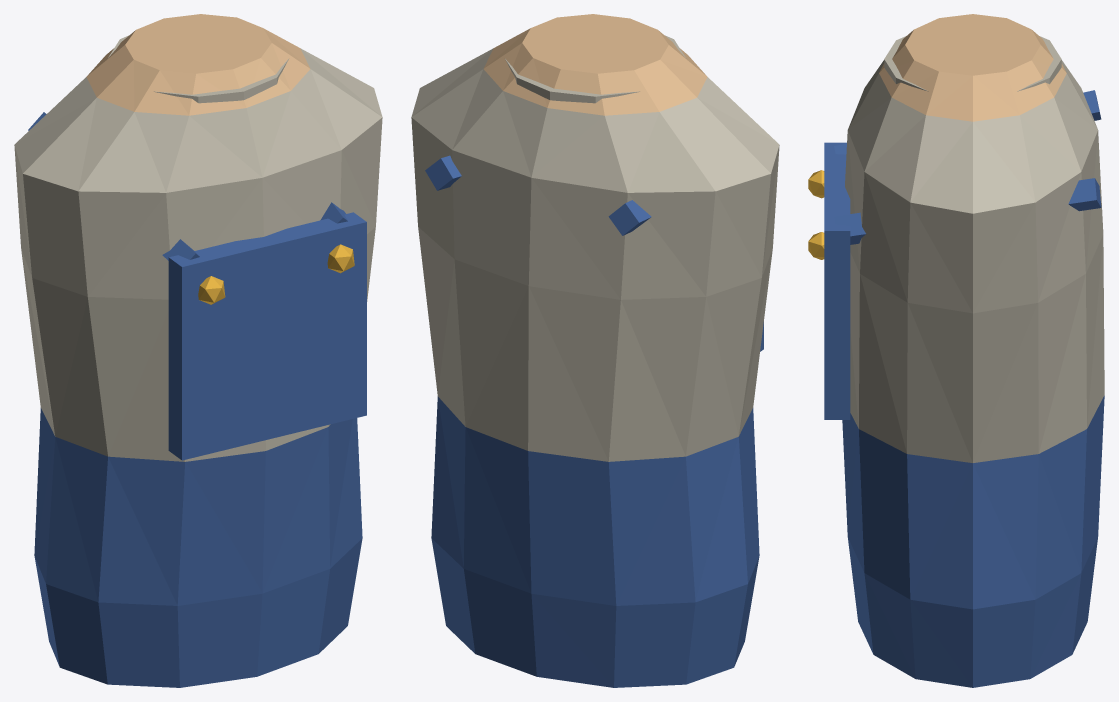
File: PersonHelper1Body.obj
3 renders of one model, left to right at view 1: azimuth 30°, elevation 25°; view 2: azimuth 150°, elevation 25°; view 3: azimuth 270°, elevation 25°, orthographic. The views are drawn at different scales.
Parts seen in each view (by area): view 1: PersonHelper1Body; view 2: PersonHelper1Body; view 3: PersonHelper1Body.
Boxes of the visible parts, x1=… form: PersonHelper1Body: x1=14, y1=14, x2=382, y2=687; PersonHelper1Body: x1=411, y1=14, x2=779, y2=687; PersonHelper1Body: x1=808, y1=14, x2=1104, y2=687.
Bounding box in the file's own units: 0.38 × 0.61 × 0.284.
